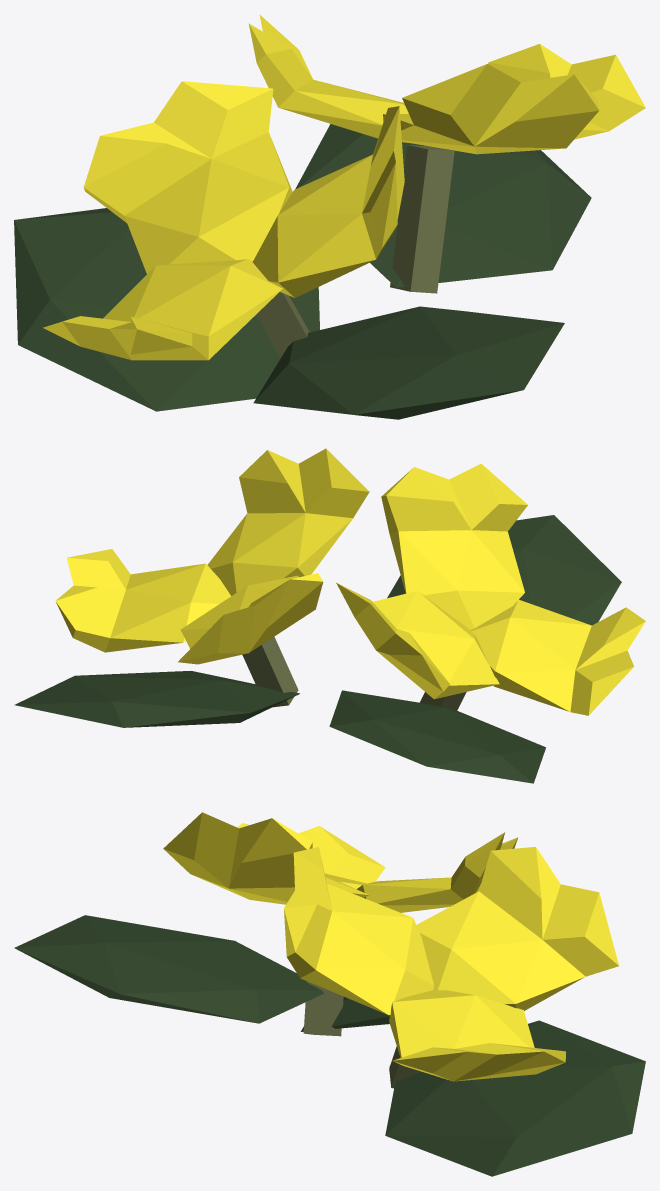
The model's file is タカネスミレ.fbx.
The picture shows the model from 3 angles, top to bottom: view 1: azimuth 30°, elevation 25°; view 2: azimuth 150°, elevation 25°; view 3: azimuth 270°, elevation 25°; orthographic projection. The views are drawn at different scales.
Parts seen in each view (by area): view 1: ICO球, ICO球.009, 円柱; view 2: ICO球, ICO球.009, 円柱; view 3: ICO球, ICO球.009, 円柱.
Boxes of the visible parts, x1,y1,x2,y2 form: ICO球: [43, 15, 645, 360]; ICO球.009: [14, 124, 591, 419]; 円柱: [256, 145, 454, 357]; ICO球: [55, 448, 645, 715]; ICO球.009: [14, 515, 621, 783]; 円柱: [242, 636, 466, 710]; ICO球: [163, 812, 618, 1081]; ICO球.009: [14, 915, 645, 1176]; 円柱: [303, 981, 421, 1088].
Size of the model in its own units: 463 by 207 by 465.
